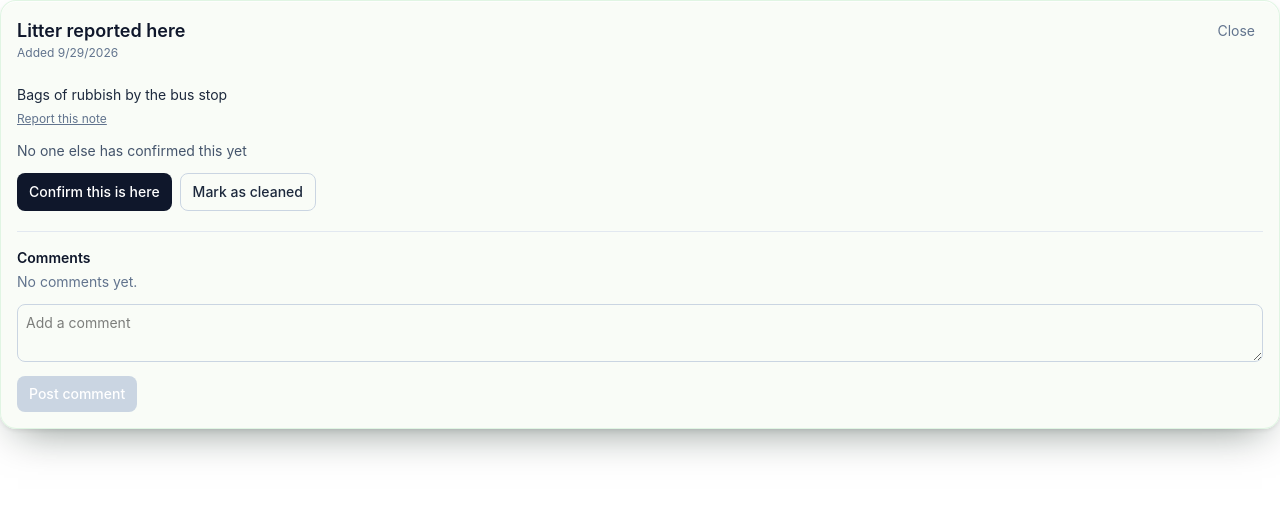
Test: ReportDetail — a pin taken off while it is open › says so for "mark as cleaned" too, rather than claiming it was already cleaned
Click the button "Mark as cleaned" at [248, 192], box 180,173 -> 316,211
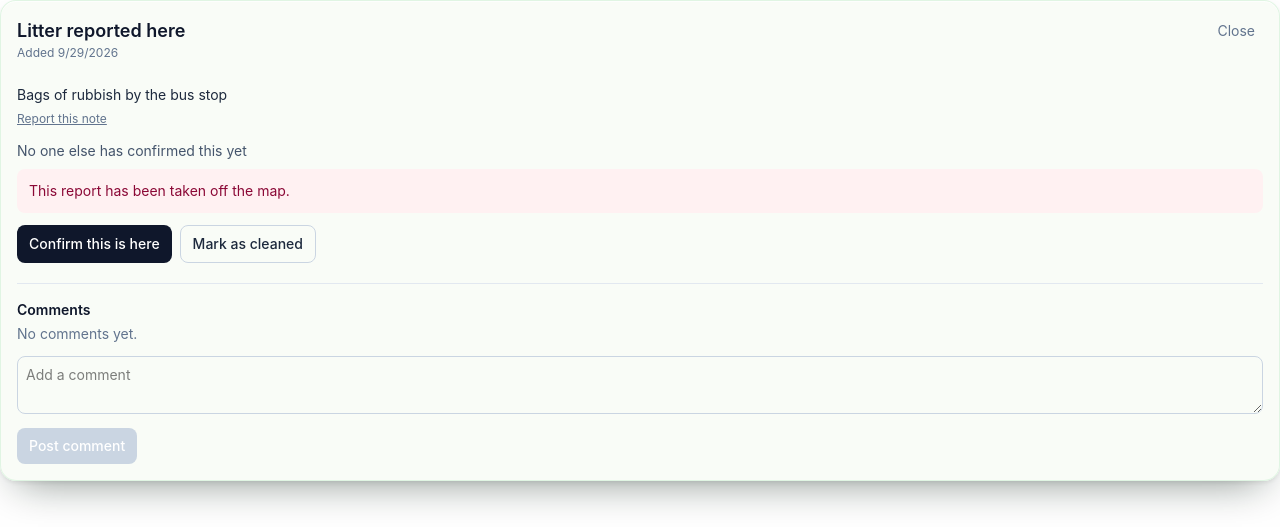
Expected: the message does not show "already", 17,169 -> 1263,213
Expected: the message shows "taken off the map", 29,182 -> 290,199
